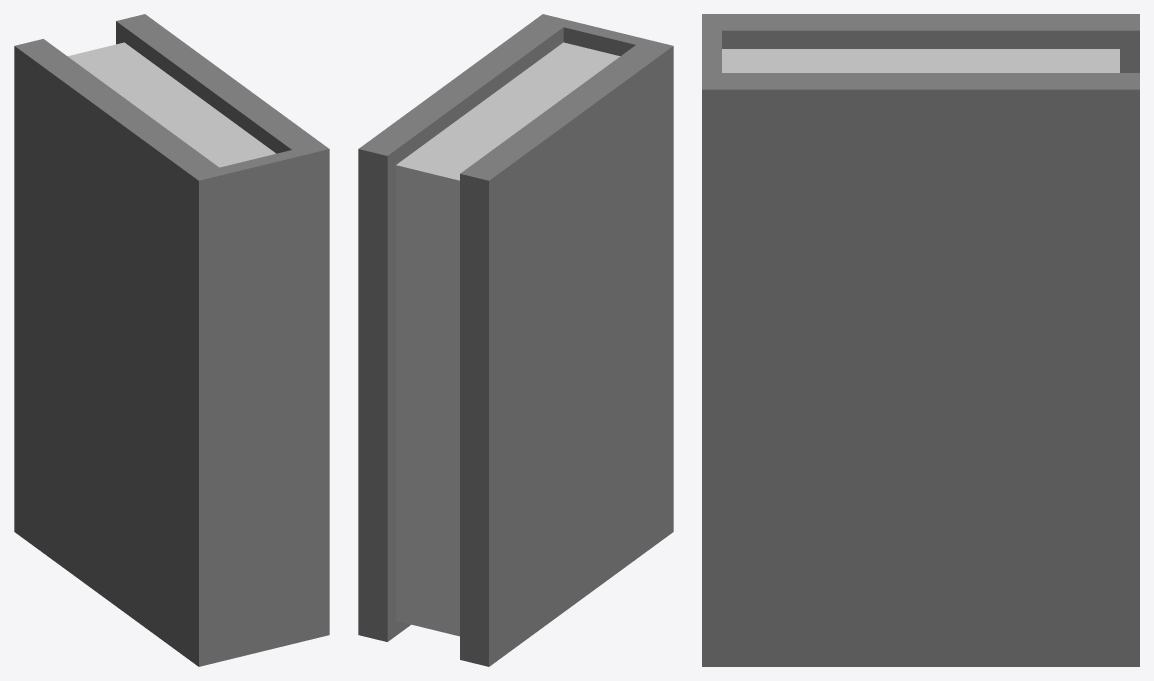
Rendered from GreyBook.fbx.
The picture shows the model from 3 angles, left to right: view 1: azimuth 30°, elevation 25°; view 2: azimuth 150°, elevation 25°; view 3: azimuth 270°, elevation 25°; orthographic projection. The views are drawn at different scales.
Parts seen in each view (by area): view 1: GreyBook; view 2: GreyBook; view 3: GreyBook.
Part boxes in pixels (<box>): GreyBook: <box>14,14,329,666</box>; GreyBook: <box>358,14,673,666</box>; GreyBook: <box>702,14,1139,666</box>.
Size of the model in its own units: 9 by 32 by 22.
Materials: 1 (1 with a texture image).
